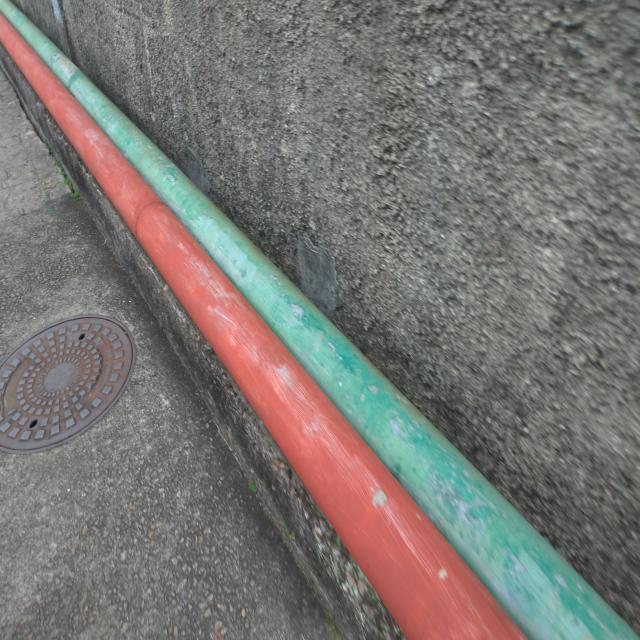gas: (3, 1, 640, 639), (0, 12, 527, 638)
